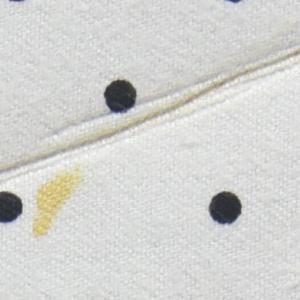Oil Stain: (1, 36, 300, 186)
Stain: (29, 164, 89, 242)
